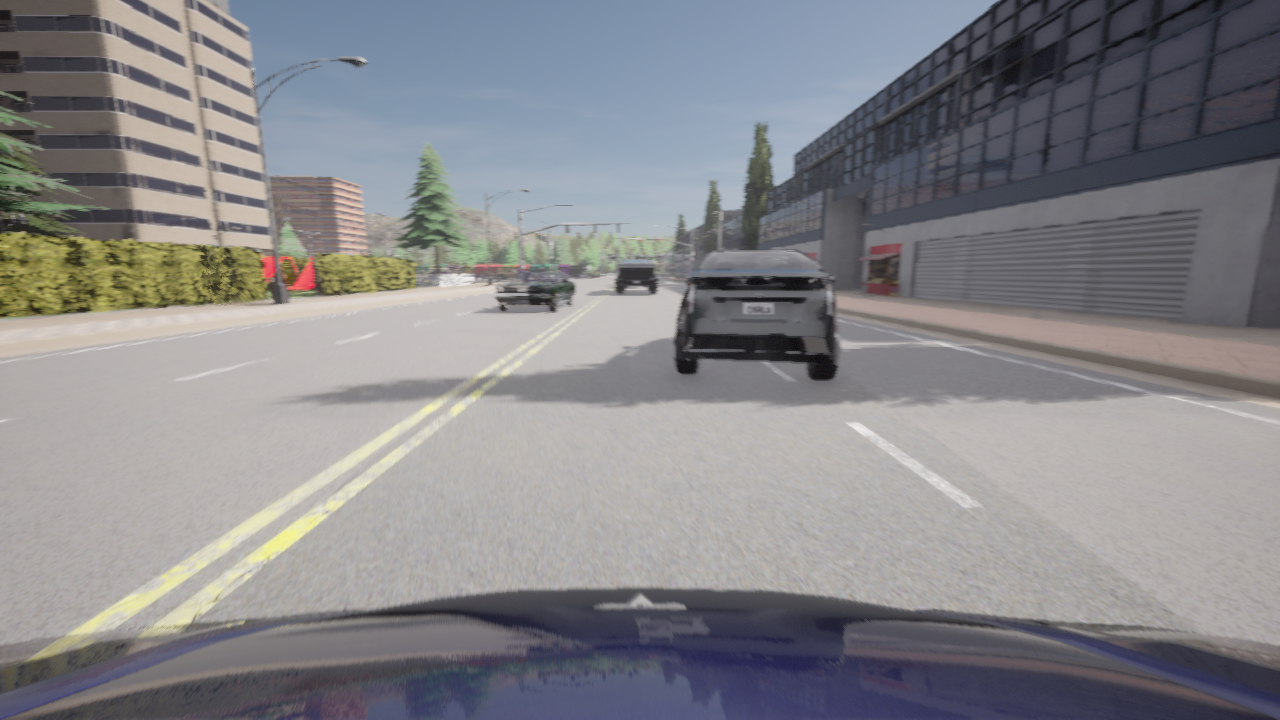cyclist: (0, 588, 1279, 719), (674, 249, 840, 380), (494, 271, 574, 311), (615, 259, 657, 293), (496, 268, 517, 278), (429, 268, 452, 274), (476, 271, 495, 278), (451, 269, 465, 273), (417, 271, 428, 276), (625, 285, 646, 287), (513, 269, 517, 271), (535, 269, 543, 270)
